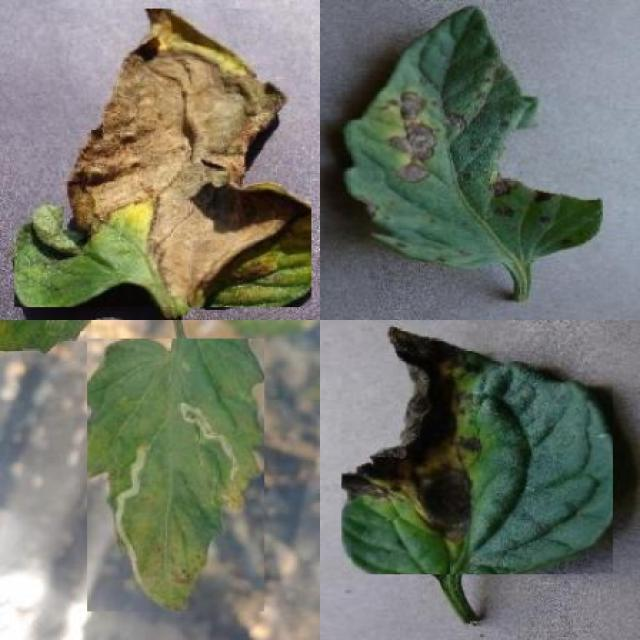Early Blight: (342, 324, 614, 574), (346, 5, 603, 264)
Late Blight: (15, 9, 312, 307)
Leaf Miner: (87, 338, 264, 612)
